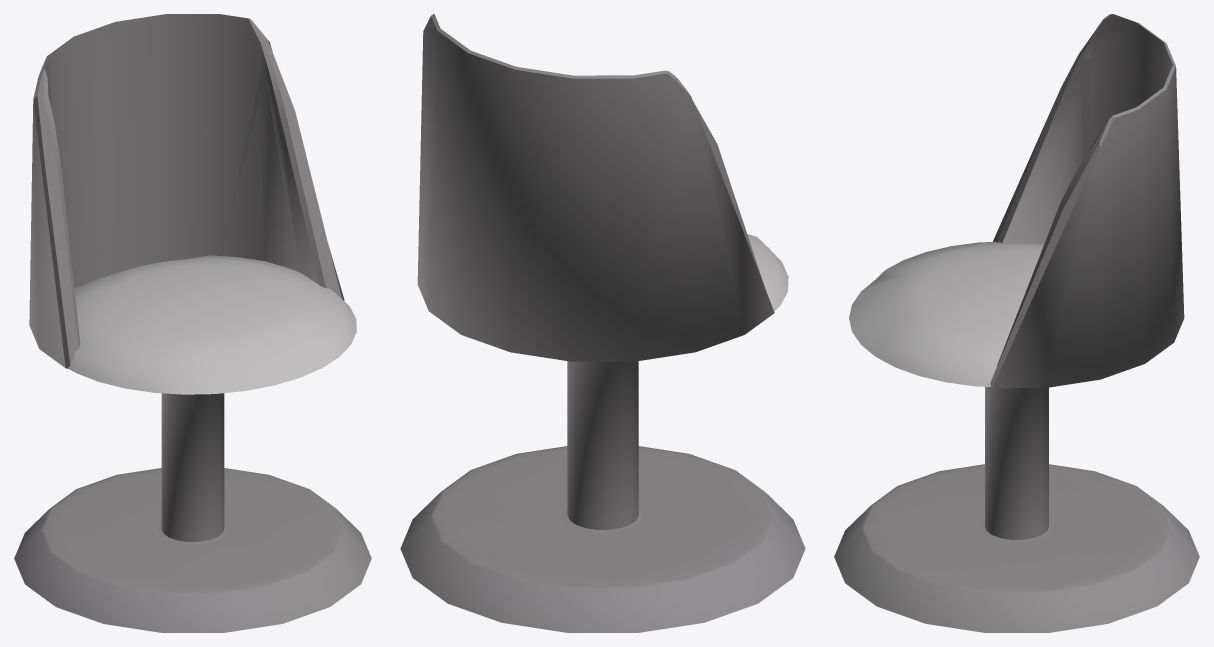
The model's file is chairMeetingRoom.fbx.
3 renders of one model, left to right at view 1: azimuth 30°, elevation 25°; view 2: azimuth 150°, elevation 25°; view 3: azimuth 270°, elevation 25°, orthographic. The views are drawn at different scales.
Parts seen in each view (by area): view 1: Cylinder.009; view 2: Cylinder.009; view 3: Cylinder.009.
Boxes of the visible parts, x1,y1,x2,y2 form: Cylinder.009: (14,14,371,632); Cylinder.009: (400,14,805,632); Cylinder.009: (834,14,1199,632).
Size of the model in its own units: 3146 by 4744 by 3194.
